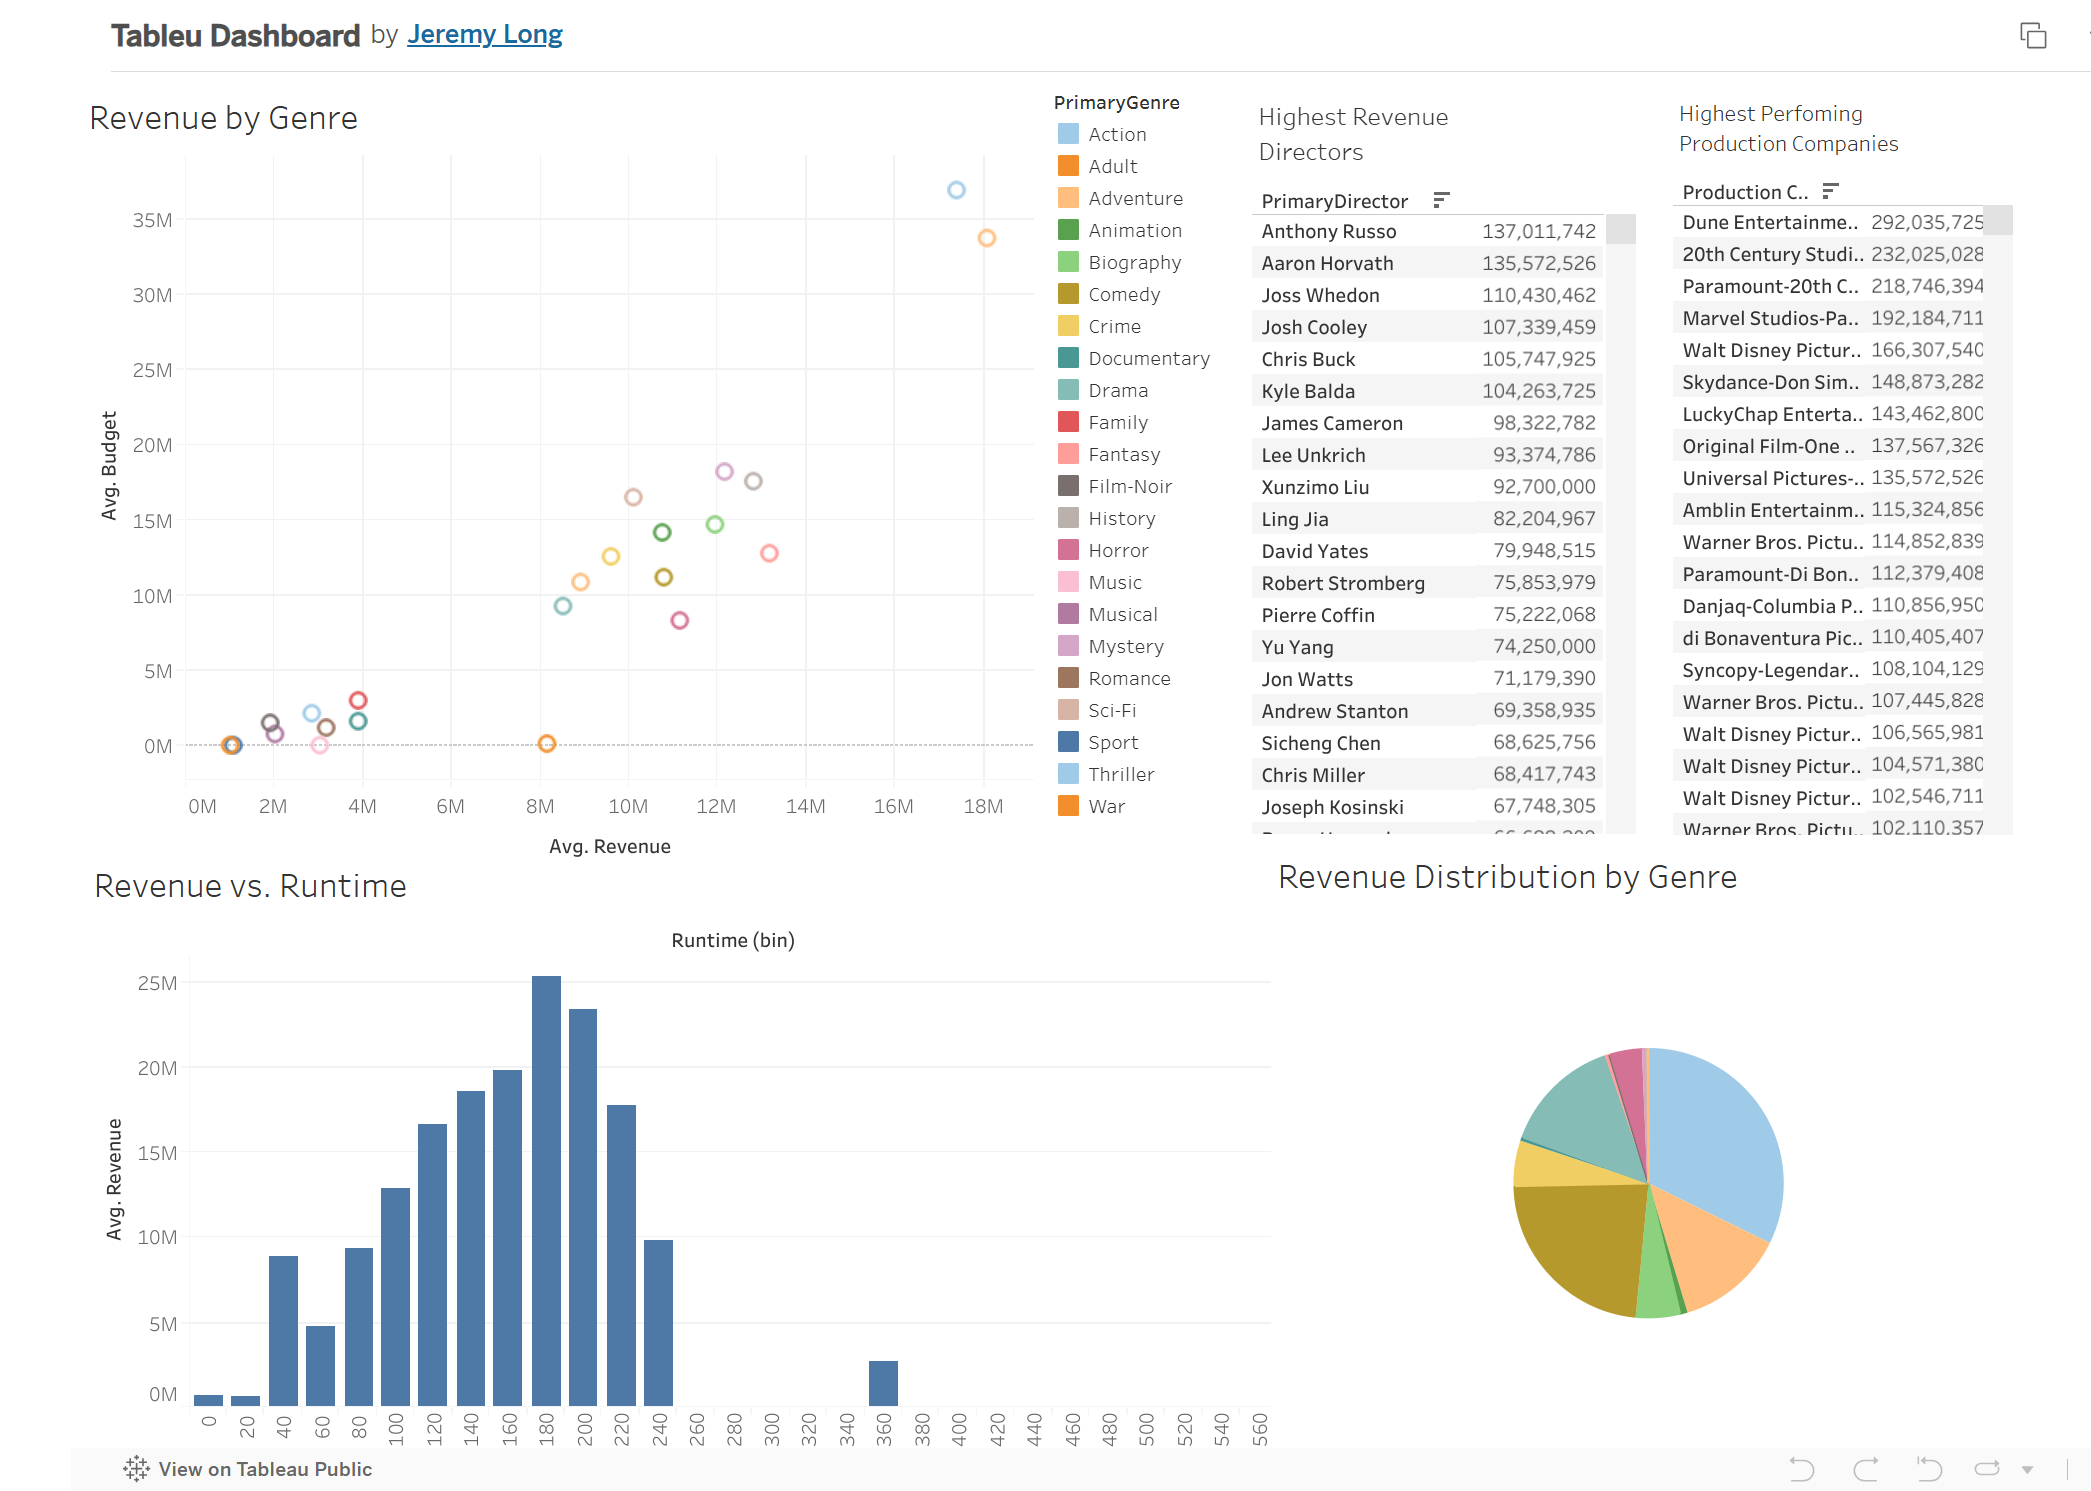

What the dashboard file says about the page in this screenshot:
{"tool":"tableau","page":{"name":"Dashboard 1","canvas":[1000,1000],"units":"permille","ordinal":0},"visuals":[{"type":"worksheet","title":"Sheet 1","mark":"Automatic","rows":["budget"],"cols":["revenue"],"box":[4.9,8.9,410.2,571.4]},{"type":"legend","title":"Sheet 1","param":"[federated.0ajumr61m6vflm19lldct1qq00lm].[none:Calculation_6310246765728911361:n","box":[423.4,12.1,84,531.8]},{"type":"worksheet","title":"Sheet 3","mark":"Automatic","rows":["PrimaryDirector (copy)_6310246765731078147"],"box":[509.1,12.1,170.5,540.9]},{"type":"worksheet","title":"Sheet 4","mark":"Automatic","rows":["Calculation_6310246765731991556"],"box":[690.3,12.1,146.6,542.4]},{"type":"legend","title":"Sheet 5","param":"[federated.0ajumr61m6vflm19lldct1qq00lm].[sum:revenue:qk]","box":[861.6,12.1,131.8,69.7]},{"type":"worksheet","title":"Sheet 5","mark":"Pie","box":[517.3,560.6,325.4,442.4]},{"type":"worksheet","title":"Sheet 2","mark":"Automatic","rows":["revenue"],"cols":["Runtime (bin)"],"box":[6.6,567.9,513.2,432.1]}]}

Visuals, with their boxes on the dashboard's canvas, which has no fixed pixel size, in thousandths of its width and height (x1, y1, x2, y2). These are canvas units, not pixel positions in the 2091x1491 screenshot, which may show the page scaled, cropped or inside an application window:
"Sheet 1" worksheet: detection(5, 9, 415, 580)
"Sheet 1" legend: detection(423, 12, 507, 544)
"Sheet 3" worksheet: detection(509, 12, 680, 553)
"Sheet 4" worksheet: detection(690, 12, 837, 554)
"Sheet 5" legend: detection(862, 12, 993, 82)
"Sheet 5" worksheet (Pie marks): detection(517, 561, 843, 1003)
"Sheet 2" worksheet: detection(7, 568, 520, 1000)
